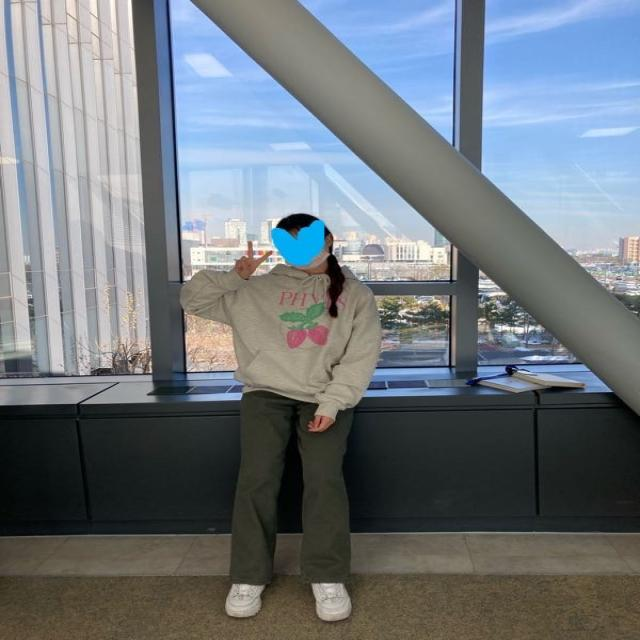denimpants: (228, 389, 357, 583)
hoodies: (178, 263, 378, 417)
